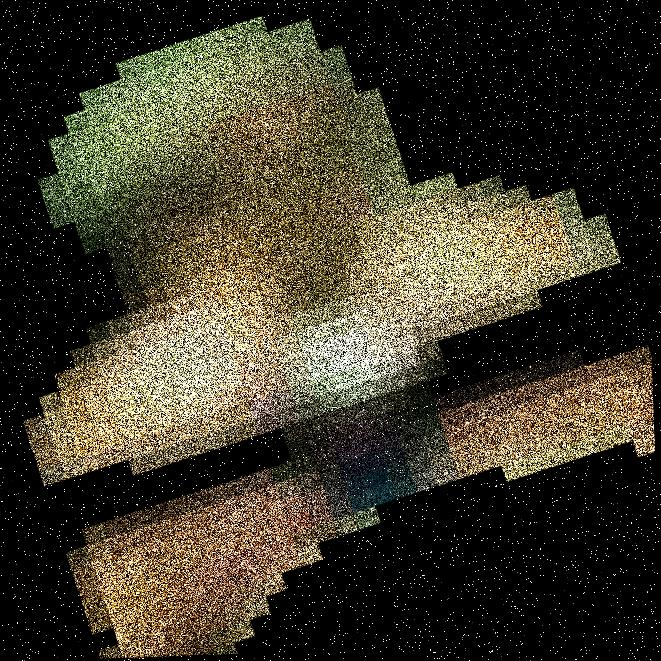Pessoa: (239, 0, 434, 660)
